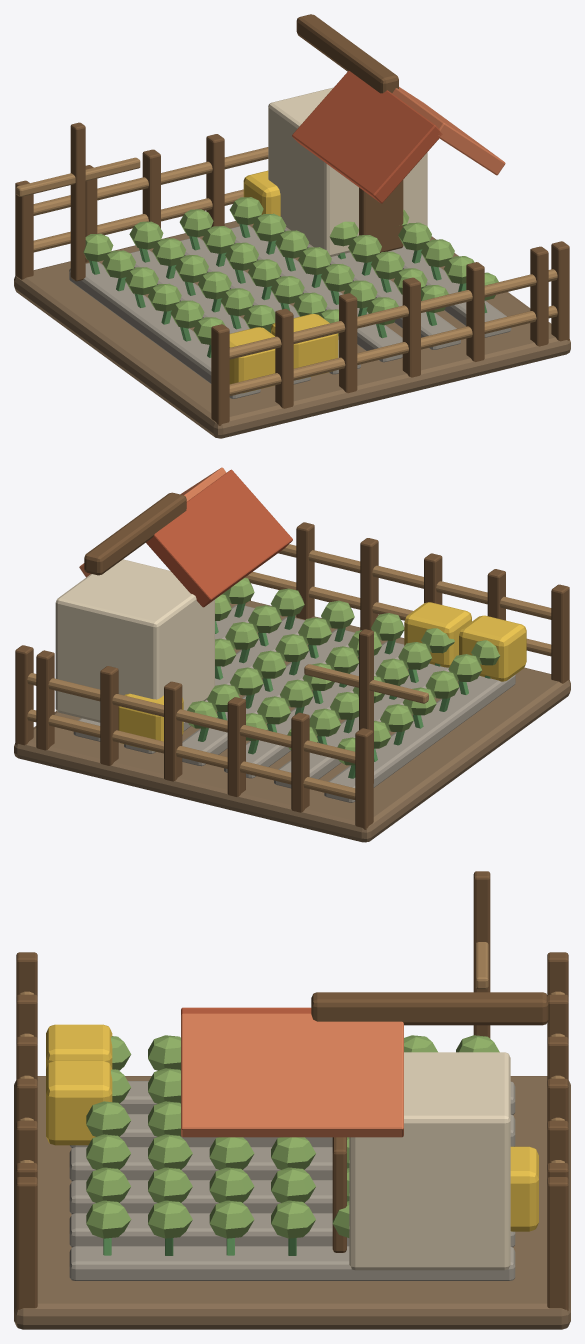
Rendered from farm.glb.
The picture shows the model from 3 angles, top to bottom: view 1: azimuth 30°, elevation 25°; view 2: azimuth 150°, elevation 25°; view 3: azimuth 270°, elevation 25°; orthographic projection. The views are drawn at different scales.
Visible parts, largest first — view 1: Farmstead_Geometry; view 2: Farmstead_Geometry; view 3: Farmstead_Geometry.
Part boxes in pixels (left/top/right/bottom): Farmstead_Geometry: left=14, top=14, right=570, bottom=438; Farmstead_Geometry: left=14, top=467, right=570, bottom=842; Farmstead_Geometry: left=14, top=871, right=570, bottom=1329.
Size of the model in its own units: 2.52 by 1.35 by 2.35.
